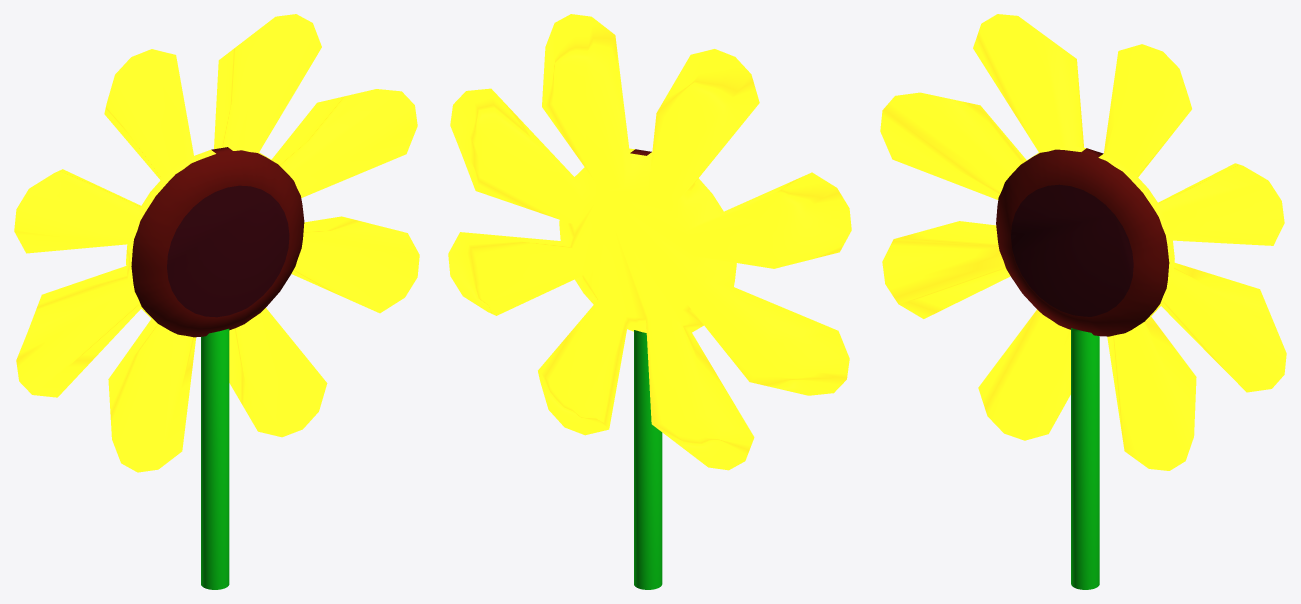
The model's file is flower.fbx.
3 renders of one model, left to right at view 1: azimuth 30°, elevation 25°; view 2: azimuth 150°, elevation 25°; view 3: azimuth 330°, elevation 25°, orthographic.
Visible parts, largest first — view 1: Cylinder; view 2: Cylinder; view 3: Cylinder.
Part boxes in pixels (box(x1,y1,x2,y2)): Cylinder: box(14, 14, 419, 589); Cylinder: box(448, 14, 851, 589); Cylinder: box(880, 14, 1286, 589).
Bounding box in the file's own units: 37.58 × 49.09 × 5.92.
